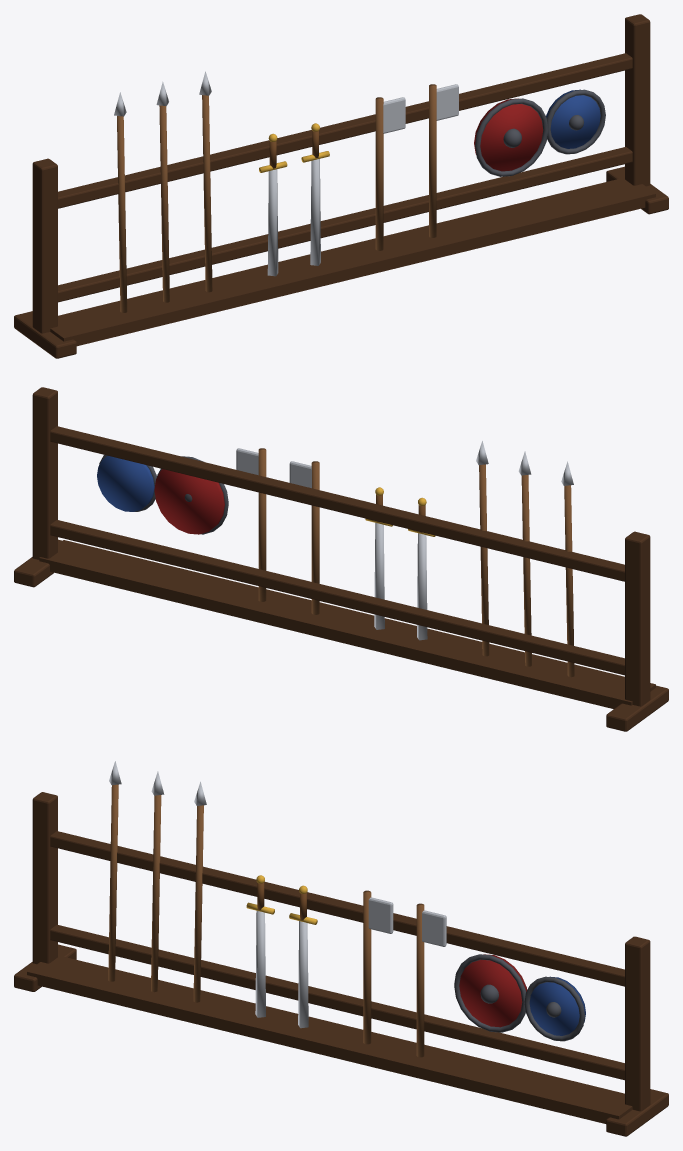
The model's file is weapons_rack.glb.
3 renders of one model, top to bottom at view 1: azimuth 30°, elevation 25°; view 2: azimuth 150°, elevation 25°; view 3: azimuth 330°, elevation 25°, orthographic.
Visible parts, largest first — view 1: weapons_rack; view 2: weapons_rack; view 3: weapons_rack.
Part boxes in pixels (box(x1,y1,x2,y2)): weapons_rack: box(14, 14, 668, 358); weapons_rack: box(14, 387, 668, 731); weapons_rack: box(14, 761, 668, 1136).
Bounding box in the file's own units: 2.88 × 1.05 × 0.35.
